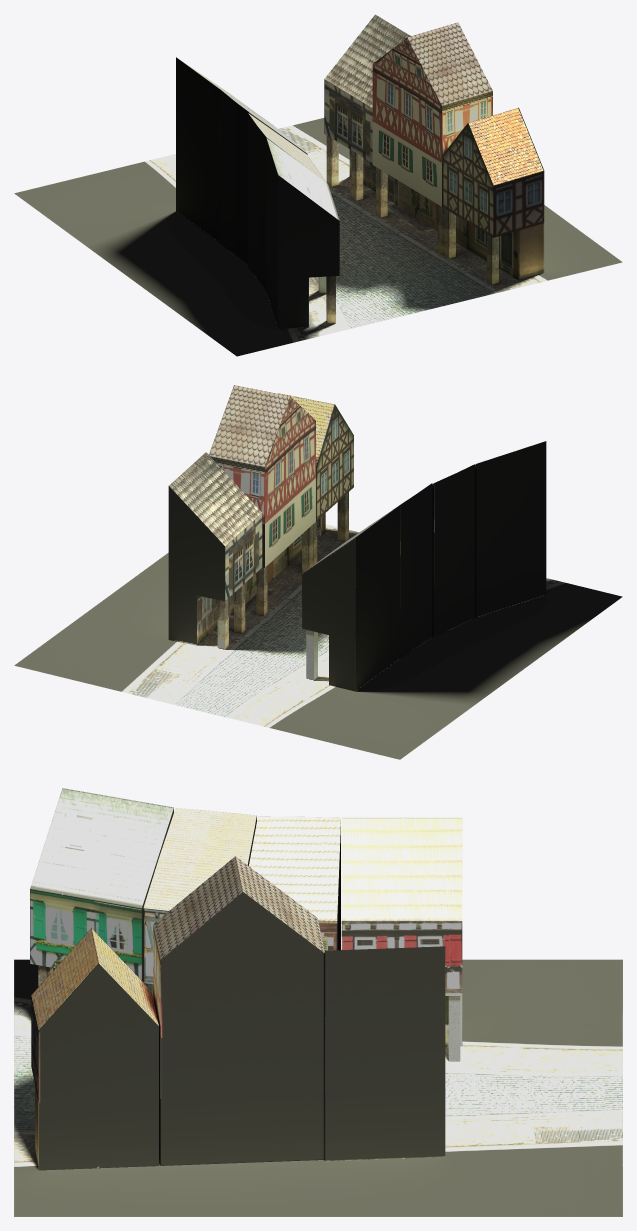
Rendered from town_baked.gltf.
The picture shows the model from 3 angles, top to bottom: view 1: azimuth 30°, elevation 25°; view 2: azimuth 150°, elevation 25°; view 3: azimuth 270°, elevation 25°; orthographic projection. The views are drawn at different scales.
Parts seen in each view (by area): view 1: Plane, Cube.005, Cube.004, Cube, Cube.003, Cube.006, Cube.002, Cube.001, Cube.018, Cube.017, Cube.013, Cube.016 (+2 smaller); view 2: Plane, Cube.006, Cube.005, Cube.003, Cube, Cube.001, Cube.002, Cube.004, Cube.018, Cube.012, Cube.016, Cube.017 (+1 smaller); view 3: Plane, Cube.005, Cube.004, Cube.006, Cube, Cube.003, Cube.002, Cube.001, Cube.012.
Part boxes in pixels (x1,y1,x2,y2): Plane: (14,118,622,356); Cube.005: (372,22,492,248); Cube.004: (442,107,544,279); Cube: (266,138,339,329); Cube.003: (176,57,273,243); Cube.006: (324,14,410,204); Cube.002: (220,90,307,265); Cube.001: (248,113,326,290); Cube.018: (326,135,338,186); Cube.017: (351,150,363,200); Cube.013: (487,234,498,284); Cube.016: (376,167,387,217); Plane: (14,524,622,759); Cube.006: (168,452,262,645); Cube.005: (209,385,315,603); Cube.003: (302,505,399,691); Cube: (475,441,546,617); Cube.001: (432,464,474,637); Cube.002: (400,483,432,658); Cube.004: (278,393,353,565); Cube.018: (217,598,228,649); Cube.012: (306,630,317,680); Cube.016: (256,566,267,615); Cube.017: (234,583,245,633); Plane: (14,959,622,1216); Cube.005: (153,856,324,1165); Cube.004: (31,928,158,1170); Cube.006: (324,946,445,1161); Cube: (30,788,173,997); Cube.003: (341,817,462,1046); Cube.002: (249,816,340,951); Cube.001: (143,808,256,984); Cube.012: (448,996,460,1060).
Size of the model in its own units: 25.61 by 12.58 by 25.61.
Materials: 20 (20 with a texture image).
